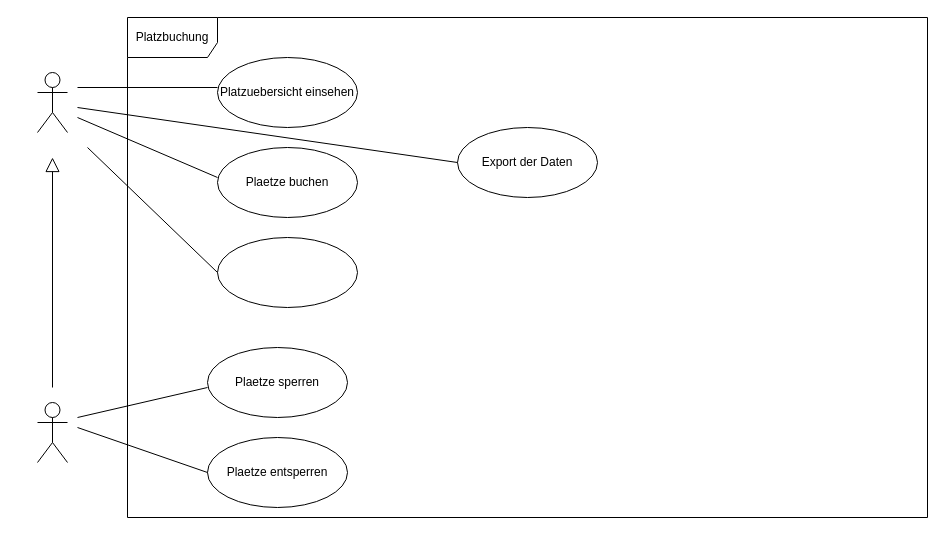
Some shapes in this 945 by 535 pixel diagram are drawn without their labels. Here are the shapes that lost their labels. From the top down, the box of each, then its label:
(36, 72, 68, 132): Mitarbeiter
(216, 236, 358, 308): Plaetze stornieren
(36, 402, 68, 462): Administrator
